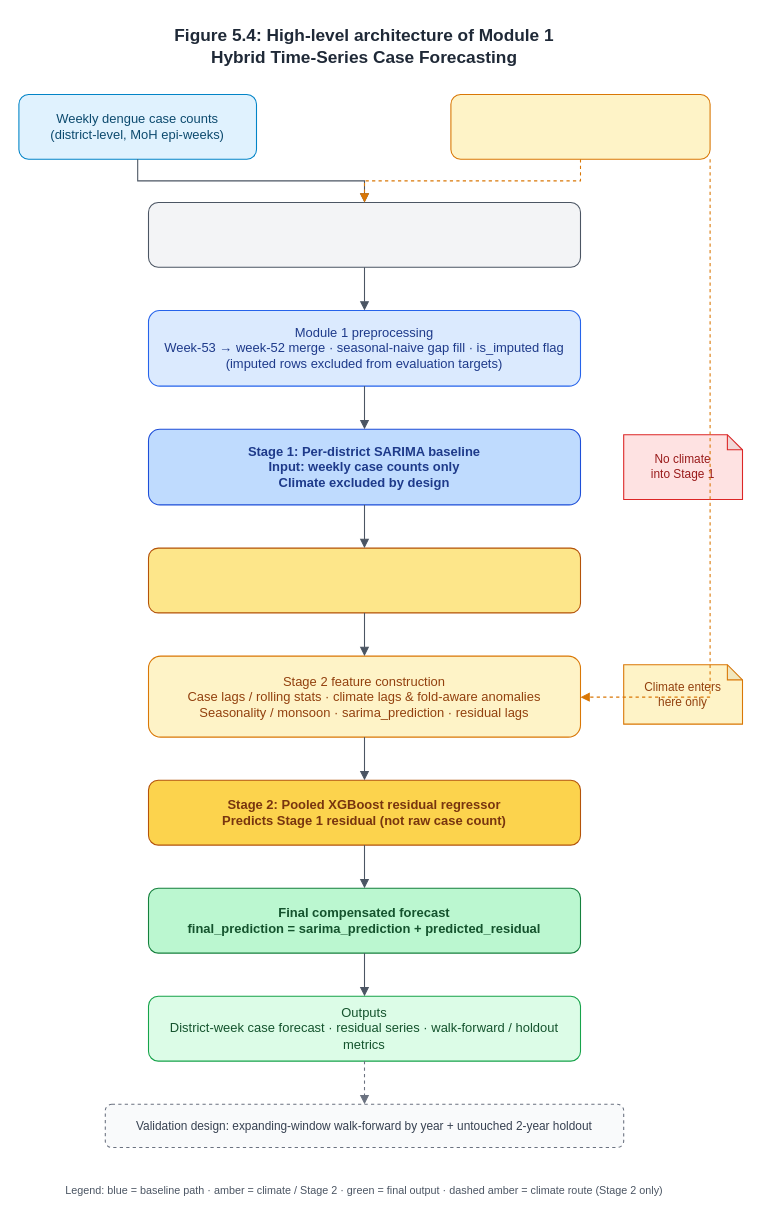
Some shapes in this 761 by 1225 pixel diagram are drawn without their labels. Here are the shapes that lost their labels. From the top down, the box of each, then its label:
(450, 93, 710, 159): Open-Meteo weekly climate (precipitation, temperature, humidity)
(147, 201, 580, 267): Shared cleaned tables Kalmunai→Ampara merge · epi-week calendar · climate weekly
(147, 547, 580, 613): Residual extraction residual = actual_cases − sarima_prediction
